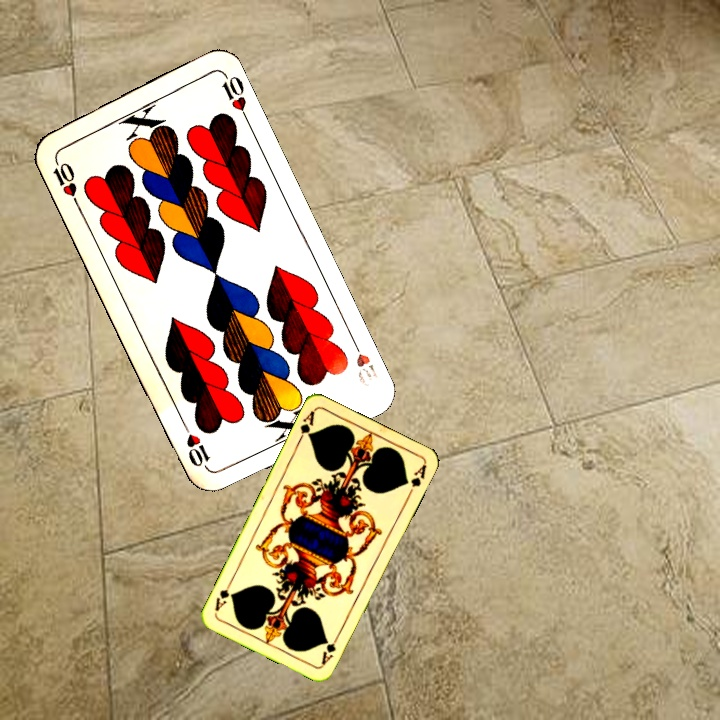GA: (317, 630, 342, 668), (294, 406, 317, 445)
H10: (346, 332, 381, 390), (48, 153, 81, 209)
